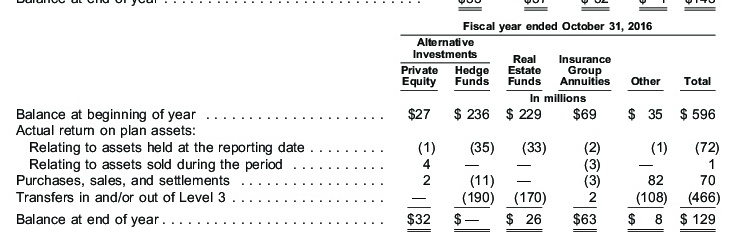table: (0, 0, 739, 248)
